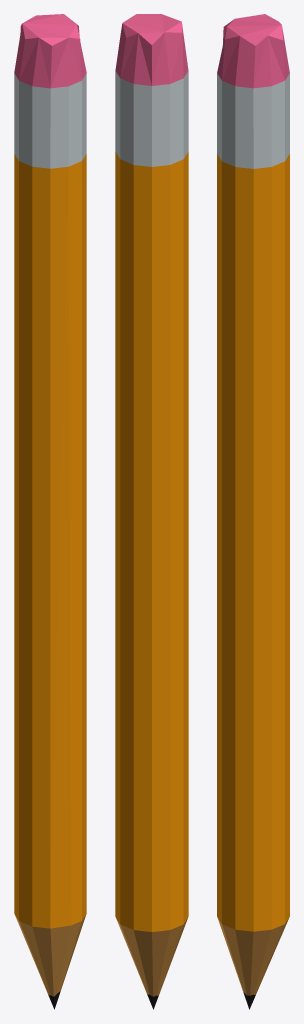
The model's file is Pencil.glb.
3 renders of one model, left to right at view 1: azimuth 90°, elevation 25°; view 2: azimuth 210°, elevation 25°; view 3: azimuth 270°, elevation 25°, orthographic.
Visible parts, largest first — view 1: Node; view 2: Node; view 3: Node.
Boxes of the visible parts, x1,y1,x2,y2 form: Node: (14,14,86,1009); Node: (115,14,188,1009); Node: (217,14,289,1009).
Bounding box in the file's own units: 0.0775 × 1.16 × 0.0775.
